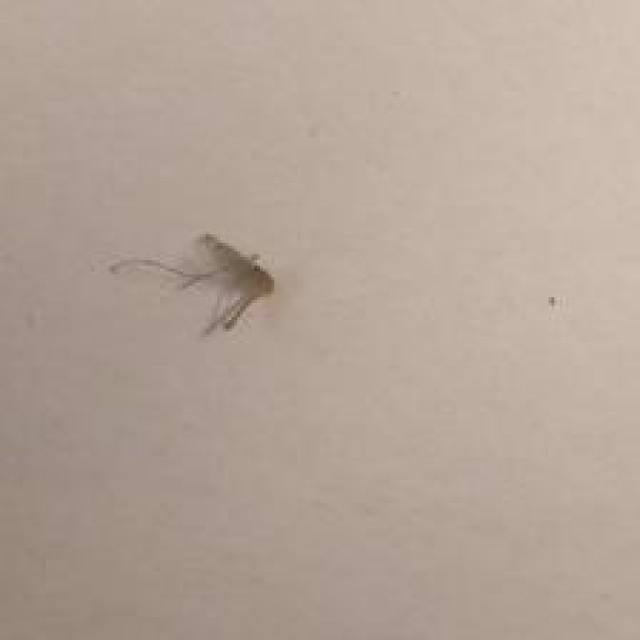Culex: (109, 230, 274, 336)
